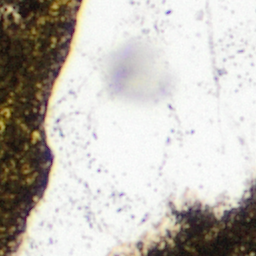cement_matrix: (0, 0, 78, 255), (144, 186, 255, 255)
gravel_crushed_stones: (9, 0, 255, 255)
